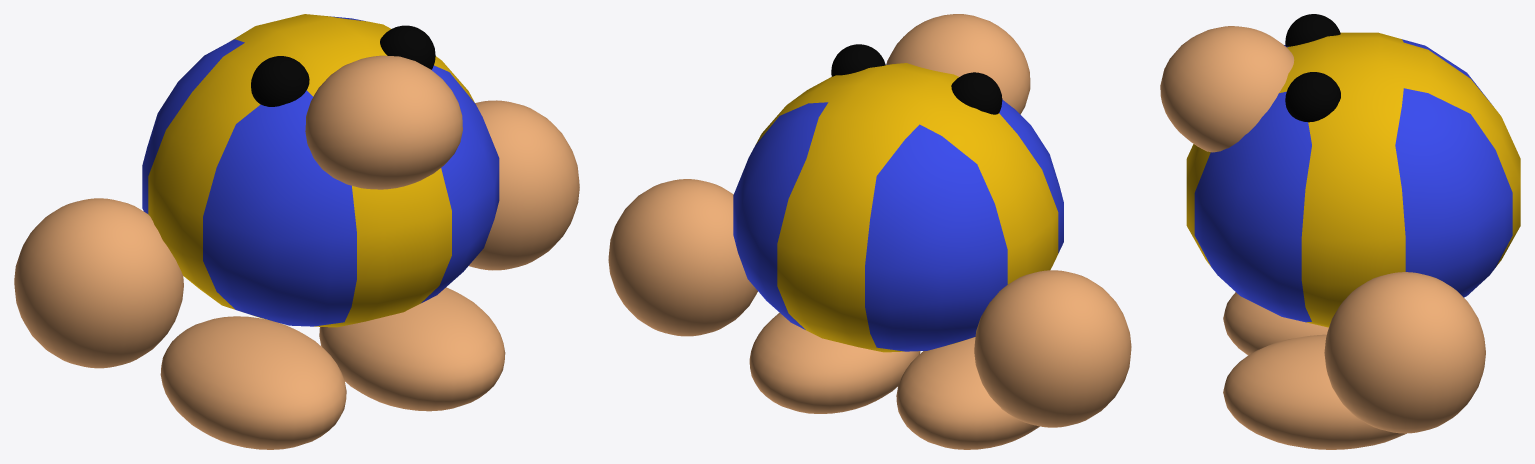
File: swede.fbx
3 views of the same model, side by side, from view 1: azimuth 30°, elevation 25°; view 2: azimuth 150°, elevation 25°; view 3: azimuth 270°, elevation 25° (orthographic). The views are drawn at different scales.
Visible parts, largest first — view 1: Cube.059; view 2: Cube.059; view 3: Cube.059.
Boxes of the visible parts, x1=… form: Cube.059: x1=14, y1=14, x2=579, y2=449; Cube.059: x1=608, y1=14, x2=1131, y2=449; Cube.059: x1=1160, y1=14, x2=1520, y2=449.
Size of the model in its own units: 43.16 by 29.49 by 26.14.
